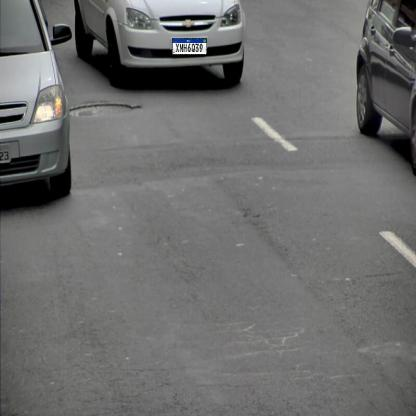PlacaM: (172, 38, 207, 55)
